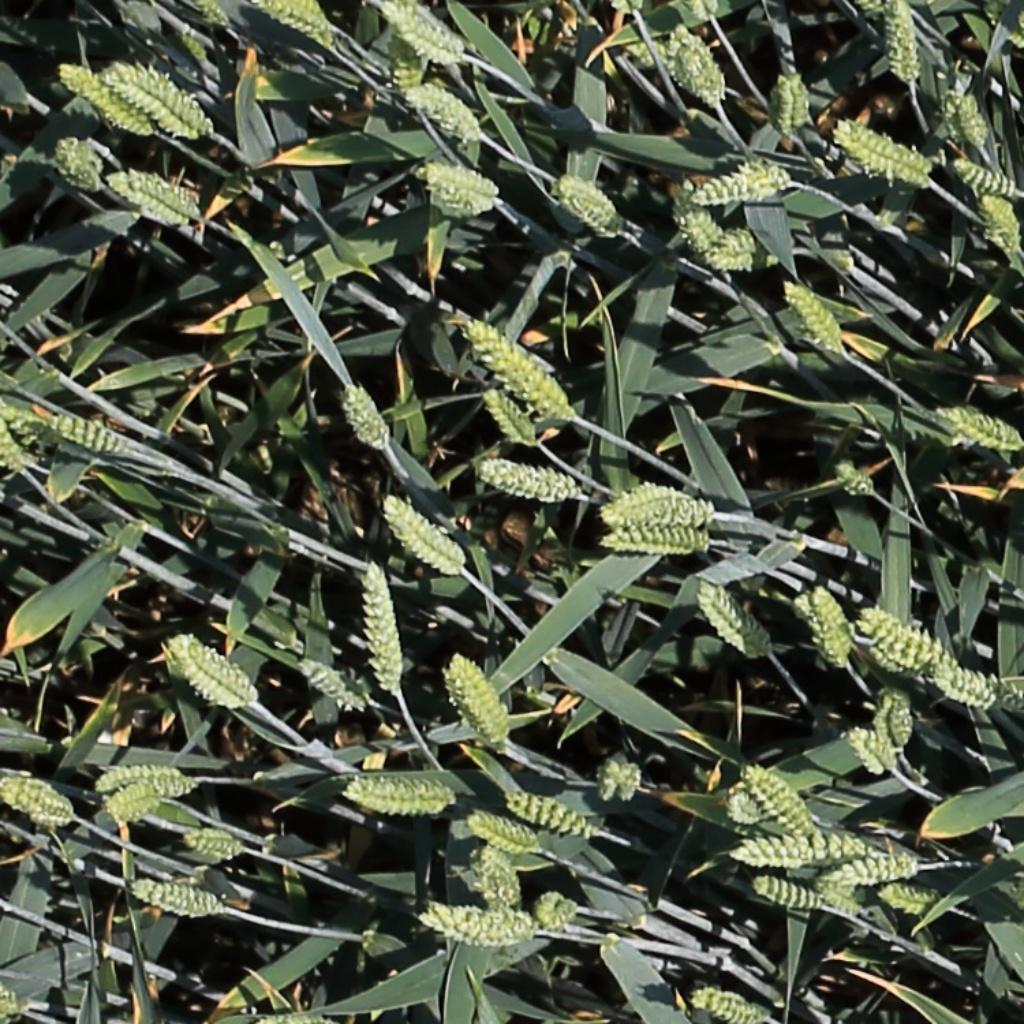0-0: (466, 319, 577, 423), (861, 608, 974, 696), (663, 160, 737, 288), (836, 118, 938, 206), (110, 72, 214, 145), (687, 218, 798, 283), (60, 61, 154, 135), (746, 873, 867, 930), (719, 827, 871, 872), (343, 768, 467, 823), (382, 495, 466, 576), (590, 13, 687, 79), (689, 156, 800, 213), (447, 651, 512, 748), (597, 480, 723, 528), (697, 580, 772, 660), (0, 375, 63, 468), (740, 763, 817, 839), (363, 559, 402, 699), (824, 837, 926, 890), (173, 638, 256, 703), (421, 162, 514, 220), (462, 831, 525, 916), (602, 517, 721, 562), (783, 275, 849, 356), (585, 738, 655, 812), (477, 458, 582, 507), (559, 185, 643, 246), (800, 585, 856, 673), (166, 649, 243, 712), (414, 904, 535, 944), (674, 23, 729, 109), (35, 410, 137, 456), (386, 2, 464, 60), (339, 376, 395, 456), (937, 670, 1024, 719), (507, 793, 595, 841), (409, 83, 483, 139), (119, 878, 225, 917), (110, 172, 195, 219), (481, 382, 540, 449), (296, 656, 367, 711), (878, 0, 922, 88), (95, 758, 196, 795), (396, 22, 436, 115), (945, 73, 992, 151), (936, 406, 1021, 449), (260, 0, 335, 46), (681, 982, 767, 1022), (786, 65, 824, 150), (0, 780, 73, 824), (976, 187, 1022, 253), (0, 346, 24, 472), (466, 815, 543, 854), (973, 0, 1024, 58), (847, 726, 902, 779), (53, 136, 106, 188), (951, 155, 1019, 195), (558, 176, 622, 218), (834, 0, 935, 25), (883, 686, 916, 759), (772, 66, 801, 143), (671, 0, 737, 27), (536, 894, 580, 932), (835, 460, 879, 496), (182, 832, 244, 857), (605, 0, 649, 35), (727, 791, 767, 827), (106, 793, 159, 819), (883, 888, 943, 910), (196, 0, 236, 32), (0, 969, 13, 1018)
